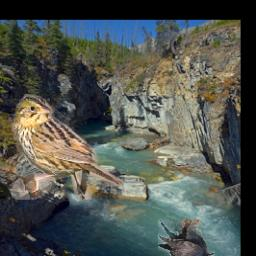Crow: (159, 220, 216, 256)
Sparrow: (13, 95, 125, 201)
